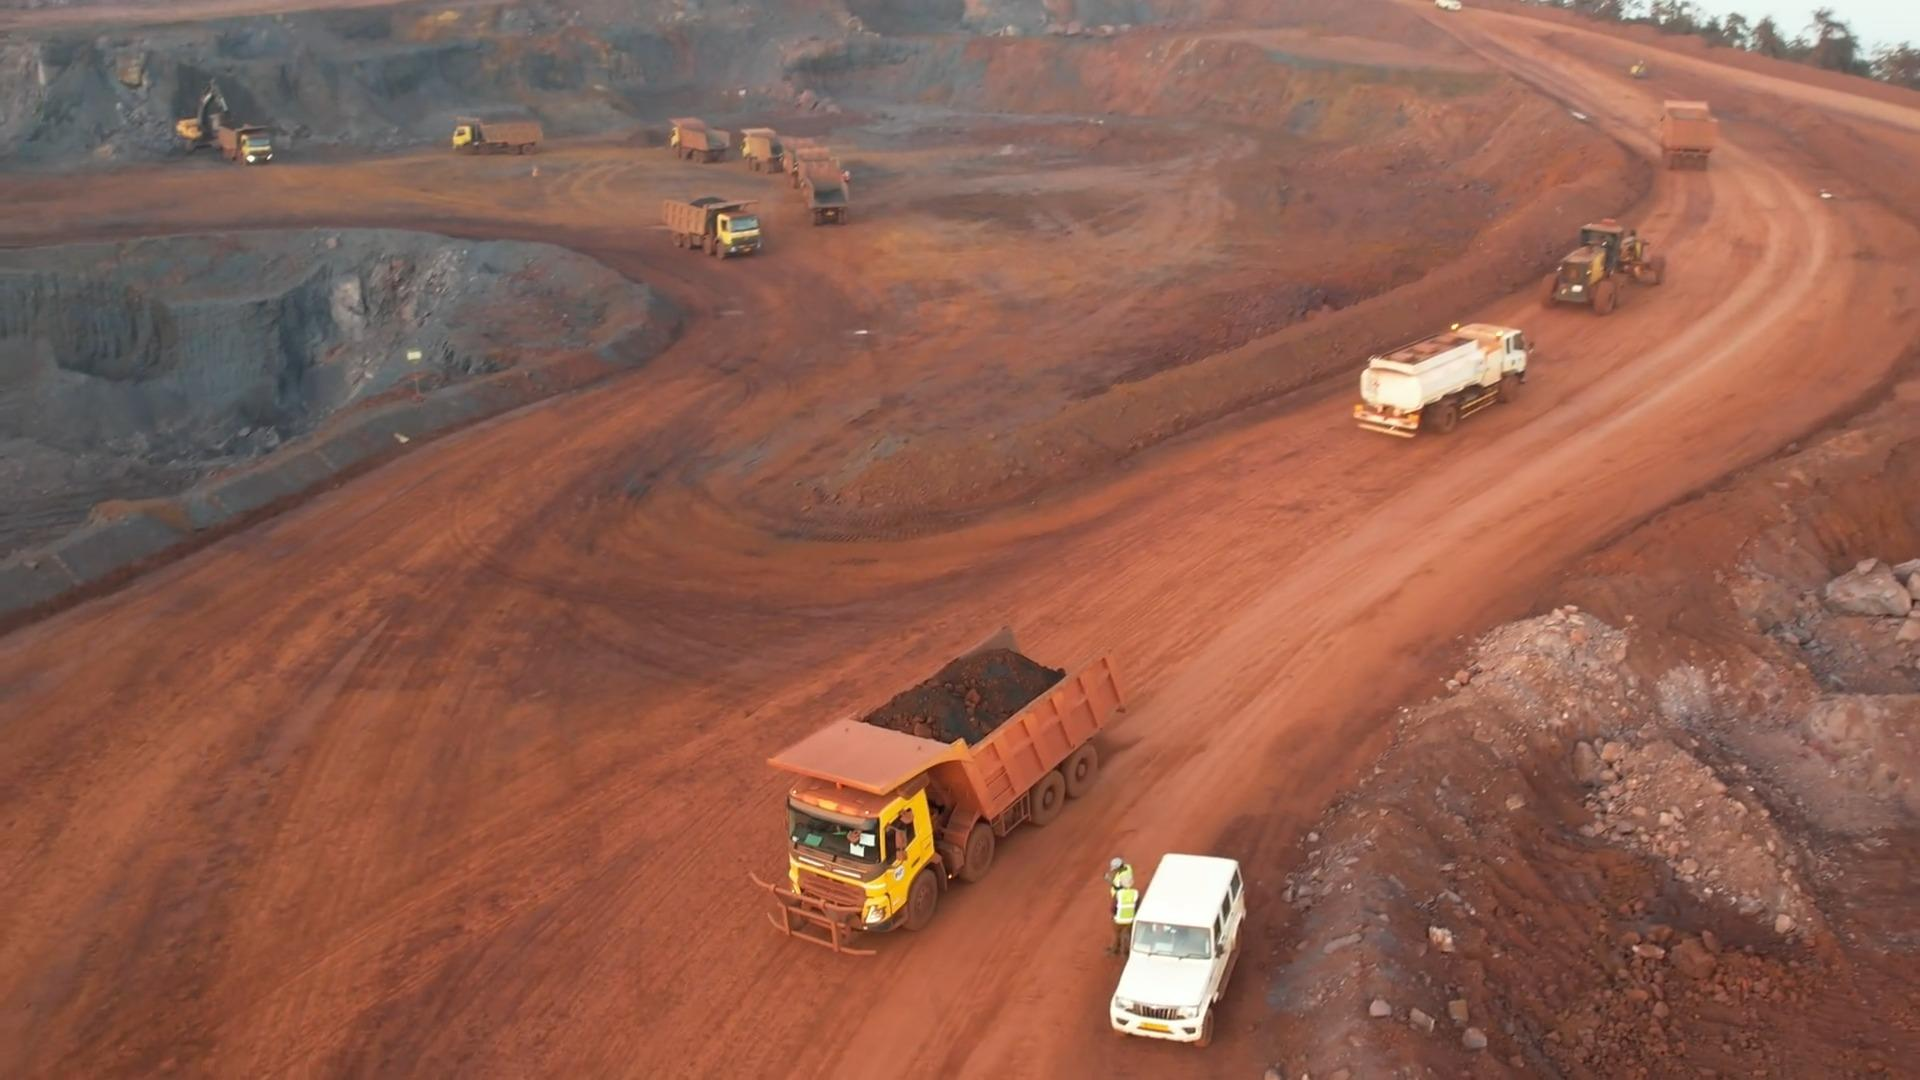excavator: (175, 80, 218, 149)
